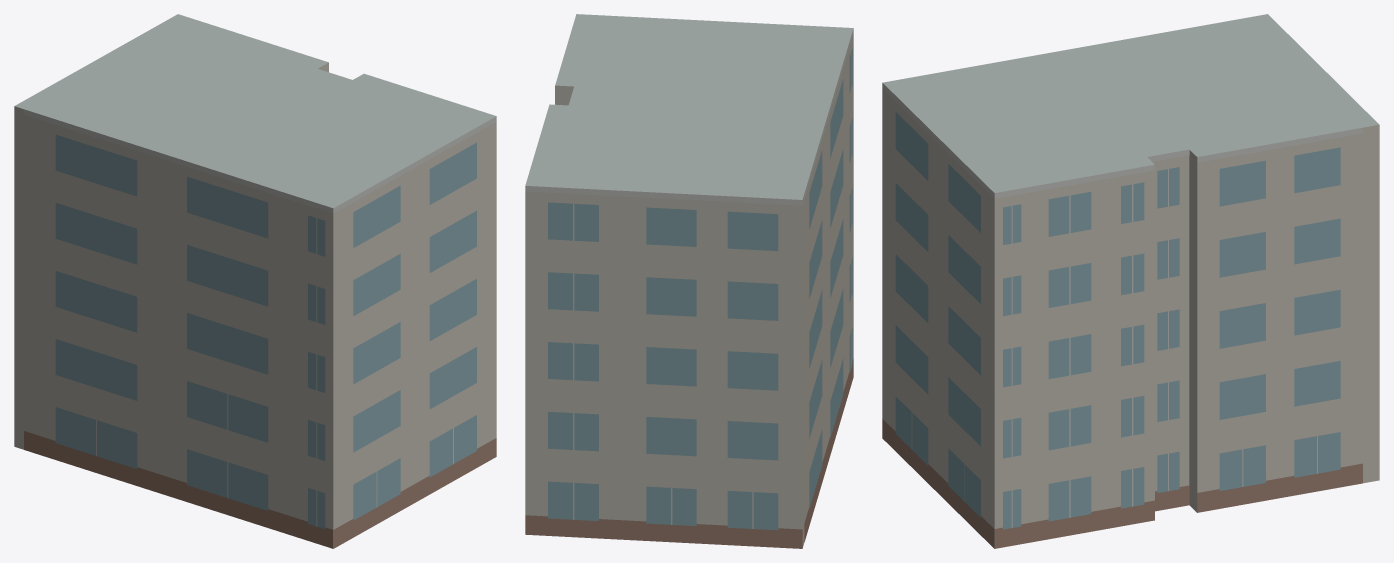
Rendered from survey-upis-32754080.glb.
3 views of the same model, side by side, from view 1: azimuth 30°, elevation 25°; view 2: azimuth 150°, elevation 25°; view 3: azimuth 270°, elevation 25° (orthographic). The views are drawn at different scales.
Parts seen in each view (by area): view 1: survey-upis-32754080.tmp; view 2: survey-upis-32754080.tmp; view 3: survey-upis-32754080.tmp.
Boxes of the visible parts, box(x1,y1,x2,y2) form: survey-upis-32754080.tmp: box(14, 14, 496, 548); survey-upis-32754080.tmp: box(525, 14, 853, 548); survey-upis-32754080.tmp: box(882, 14, 1379, 548).
Size of the model in its own units: 16.48 by 15.25 by 19.32.
